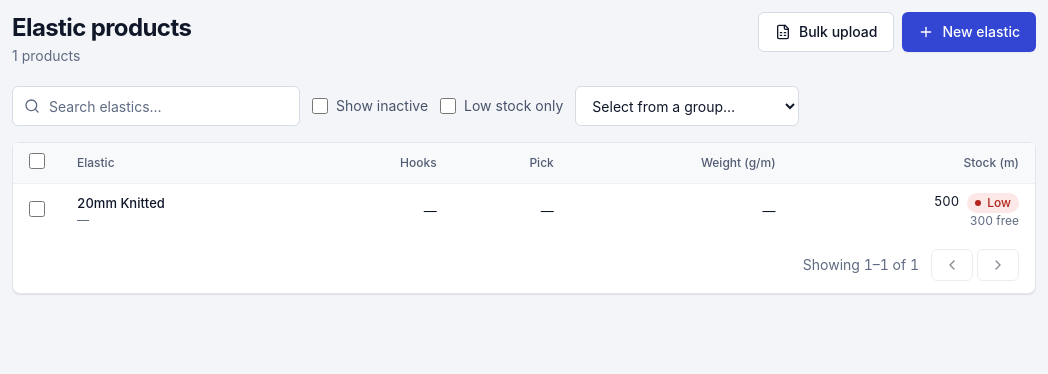
Scenario: ticks a group's elastics, ready for New order
Select "Acme usual — Acme (2)" in the dropdown named "Select from a group" at (687, 106), box [575,86,799,126]
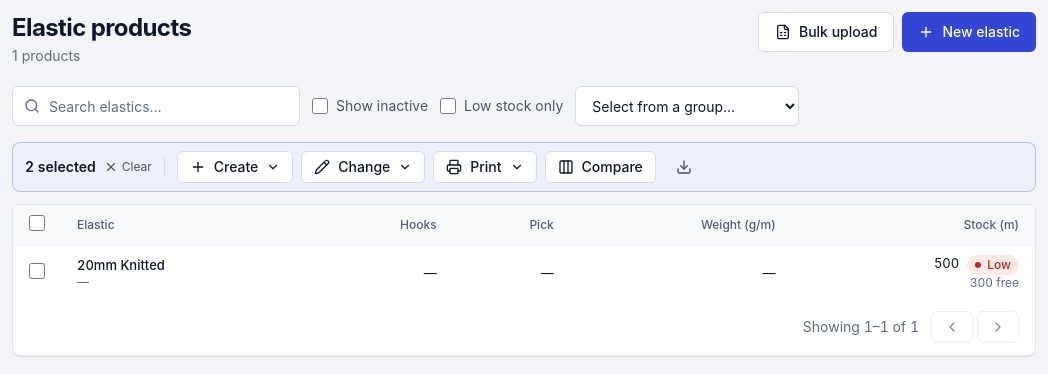
Check: the text "2 selected" is shown, box [25,157,96,177]
